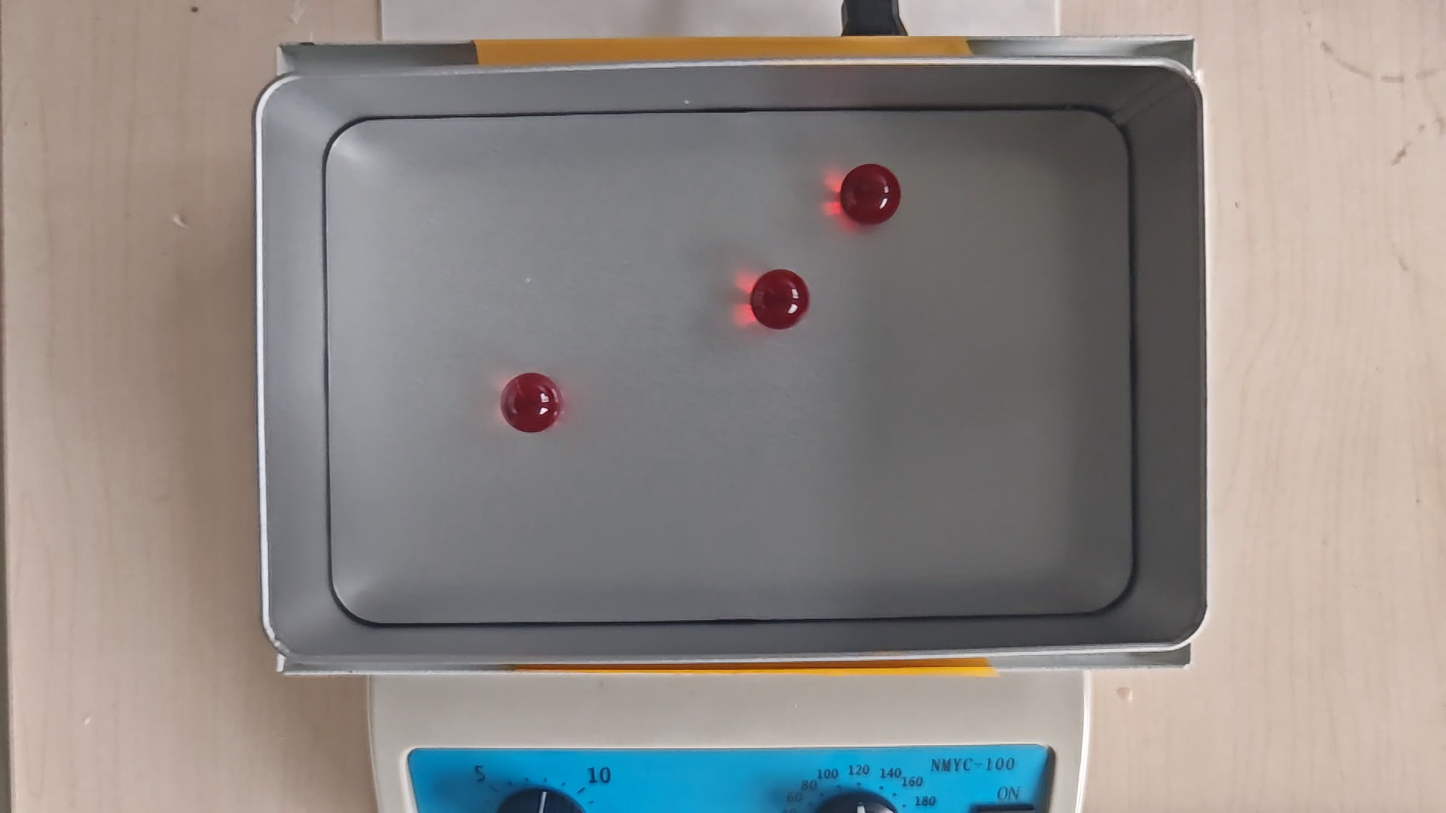ball: (499, 371, 563, 434), (840, 163, 901, 225), (750, 268, 810, 330)
container: (326, 109, 1133, 623)
